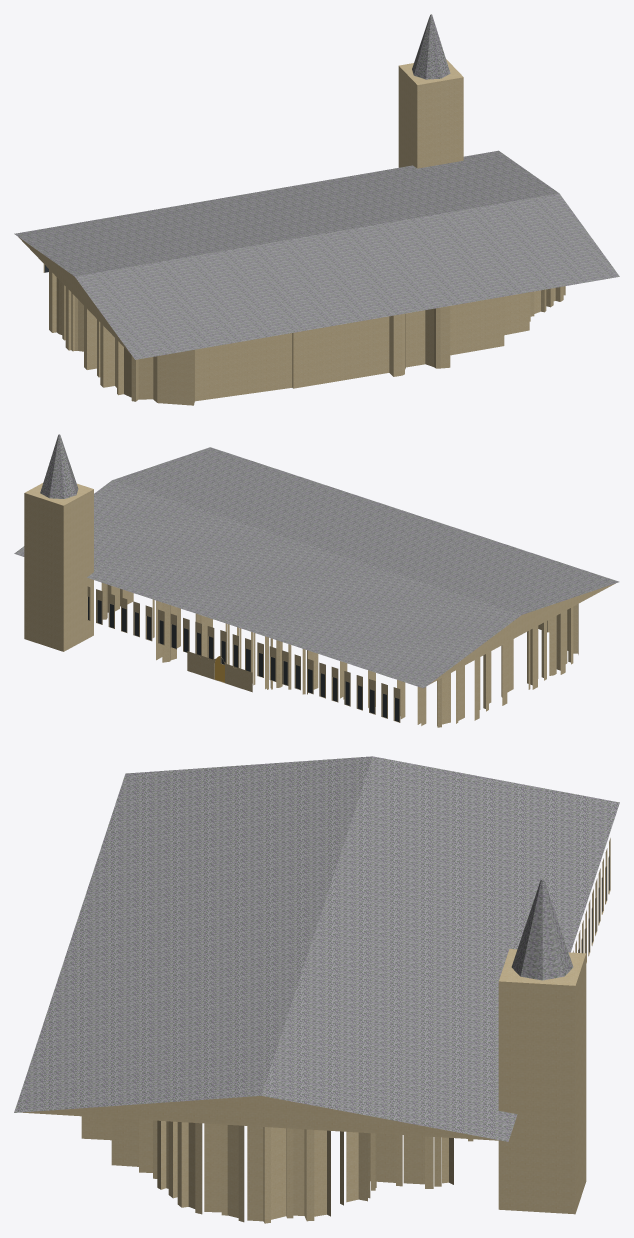
3 views of the same model, one above another, from view 1: azimuth 30°, elevation 25°; view 2: azimuth 150°, elevation 25°; view 3: azimuth 270°, elevation 25° (orthographic). The views are drawn at different scales.
Visible parts, largest first — view 1: bldg_26495164_landmark; view 2: bldg_26495164_landmark; view 3: bldg_26495164_landmark.
Part boxes in pixels (<box>): bldg_26495164_landmark: <box>14,14,619,405</box>; bldg_26495164_landmark: <box>14,434,619,727</box>; bldg_26495164_landmark: <box>14,756,619,1223</box>.
Size of the model in its own units: 135 by 54.01 by 93.8.
5 materials, 3 textured.
